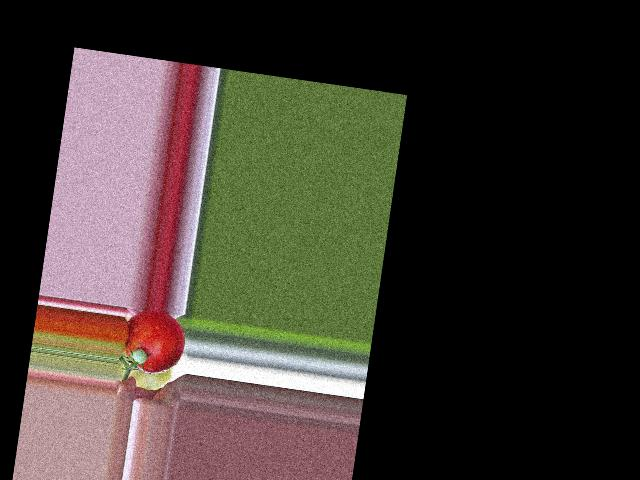tomato: (121, 306, 188, 378)
